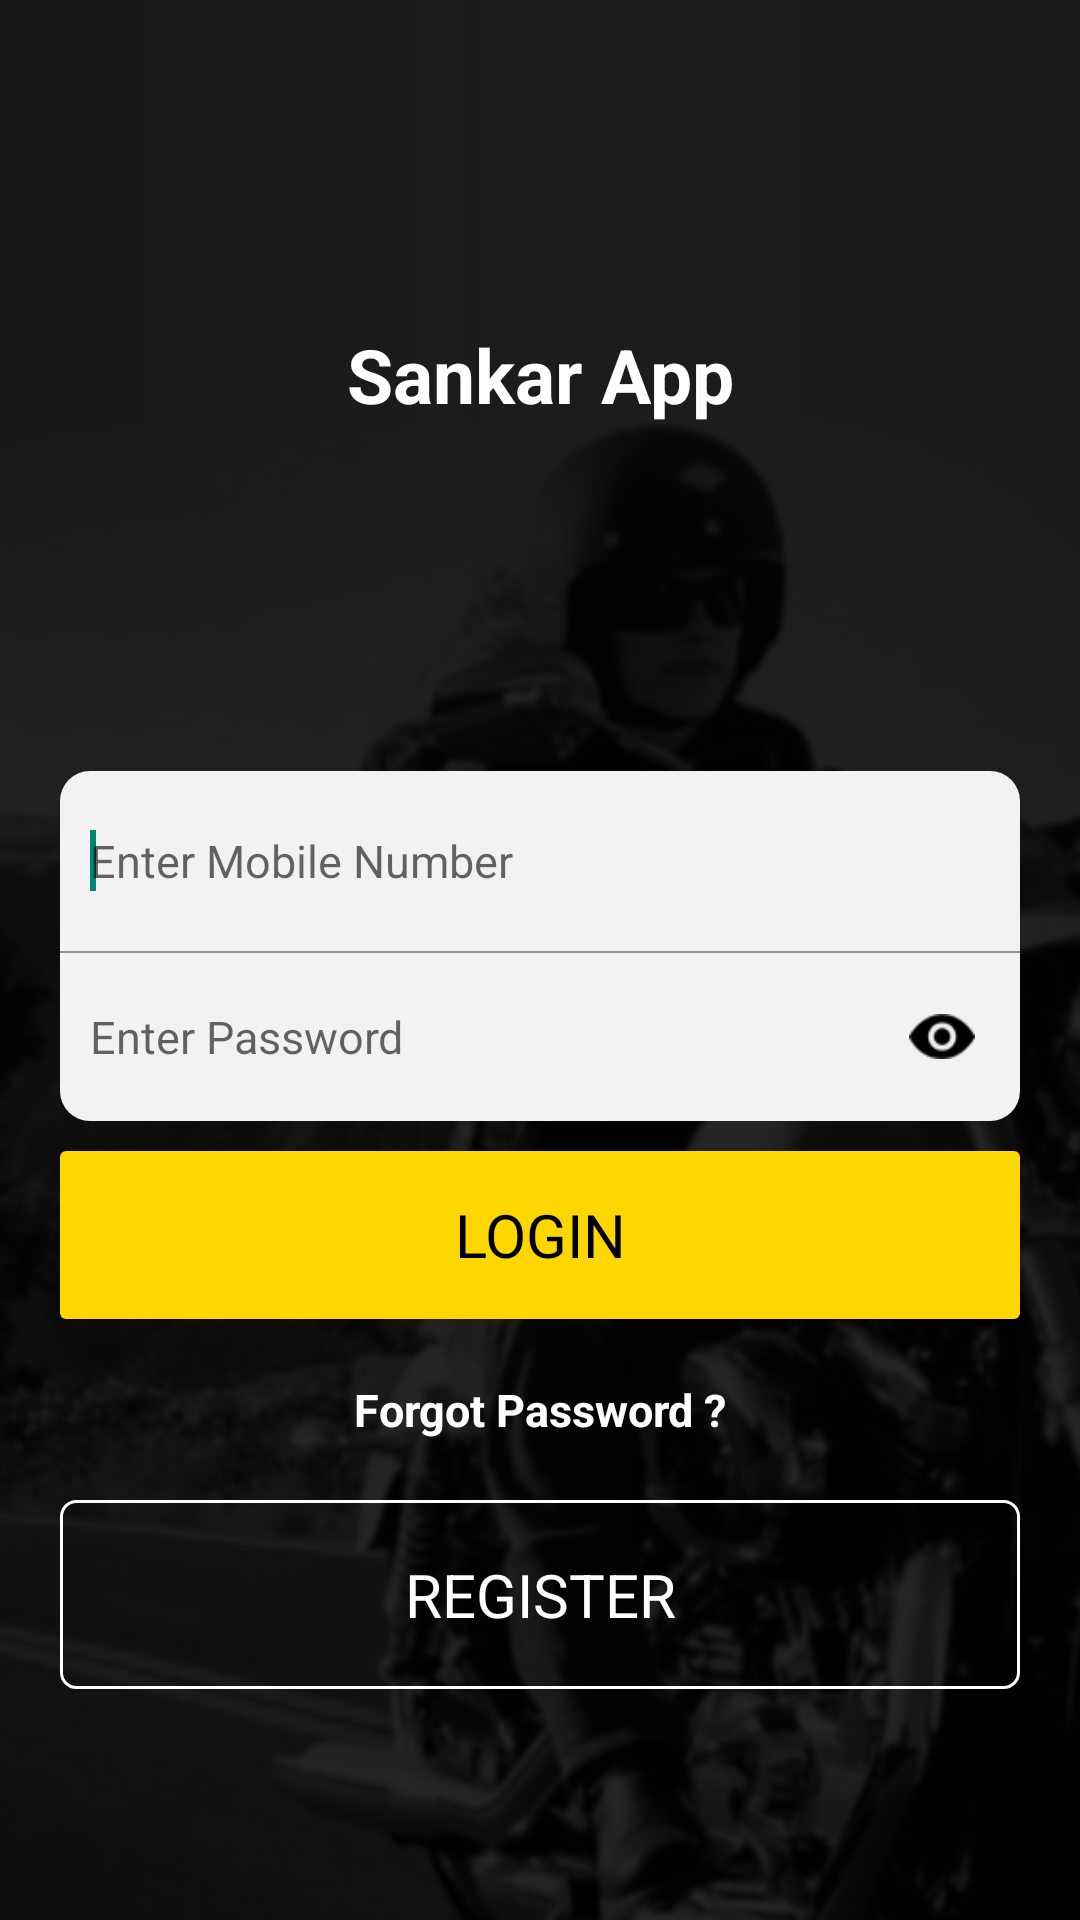

Icons on this 1080px×1920px Android screen, each with the point to tap as (x,y):
showpassword: (942,1036)
